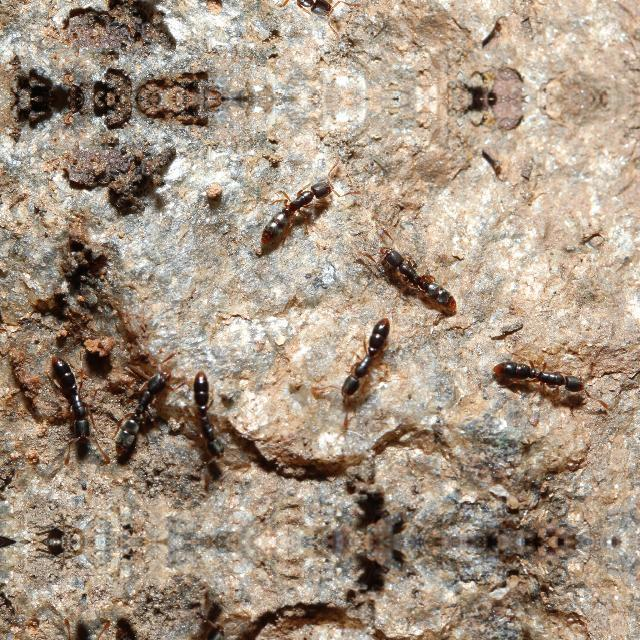Ponera: (245, 158, 368, 274), (43, 328, 115, 462), (486, 344, 618, 412), (377, 229, 483, 311), (332, 294, 396, 408), (118, 344, 170, 476), (181, 367, 243, 473), (243, 0, 366, 36), (181, 610, 243, 640), (116, 606, 170, 640)
